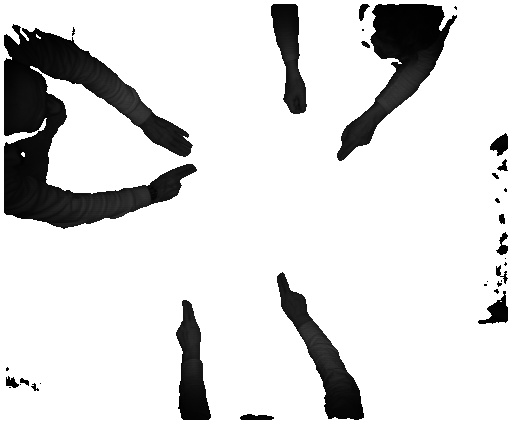fist: (280, 80, 311, 119)
hand: (149, 104, 199, 161), (336, 115, 390, 167), (272, 272, 319, 320), (155, 163, 199, 207), (176, 296, 207, 348)
